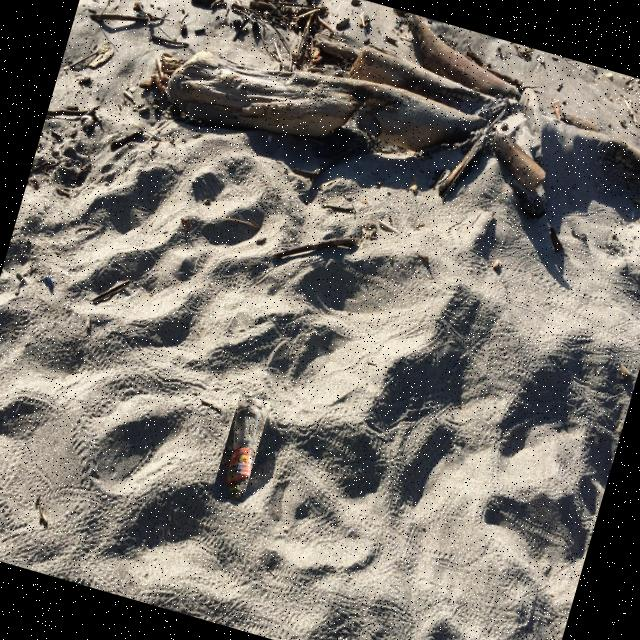Clear plastic bottle: (226, 397, 262, 500)
